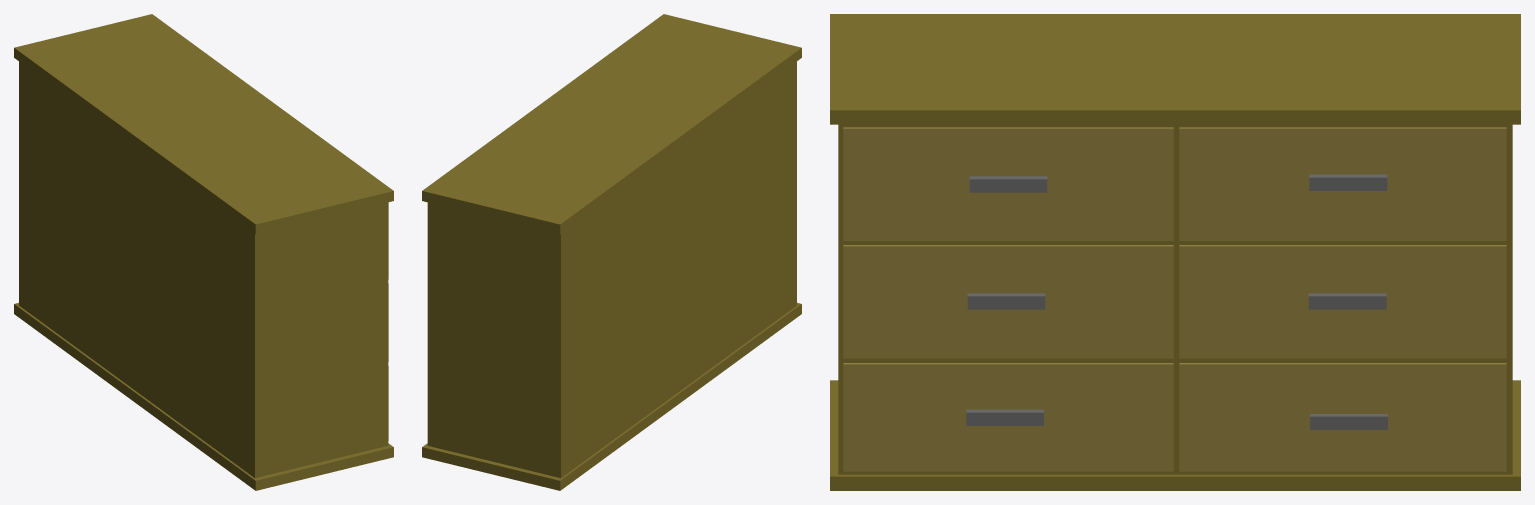
Rendered from Dresser.fbx.
The picture shows the model from 3 angles, left to right: view 1: azimuth 30°, elevation 25°; view 2: azimuth 150°, elevation 25°; view 3: azimuth 270°, elevation 25°; orthographic projection. The views are drawn at different scales.
Visible parts, largest first — view 1: Cube; view 2: Cube; view 3: Cube.
Part boxes in pixels (<box>): Cube: <box>14,14,393,490</box>; Cube: <box>422,14,801,490</box>; Cube: <box>830,14,1520,490</box>.
Size of the model in its own units: 360 by 648 by 1065.
